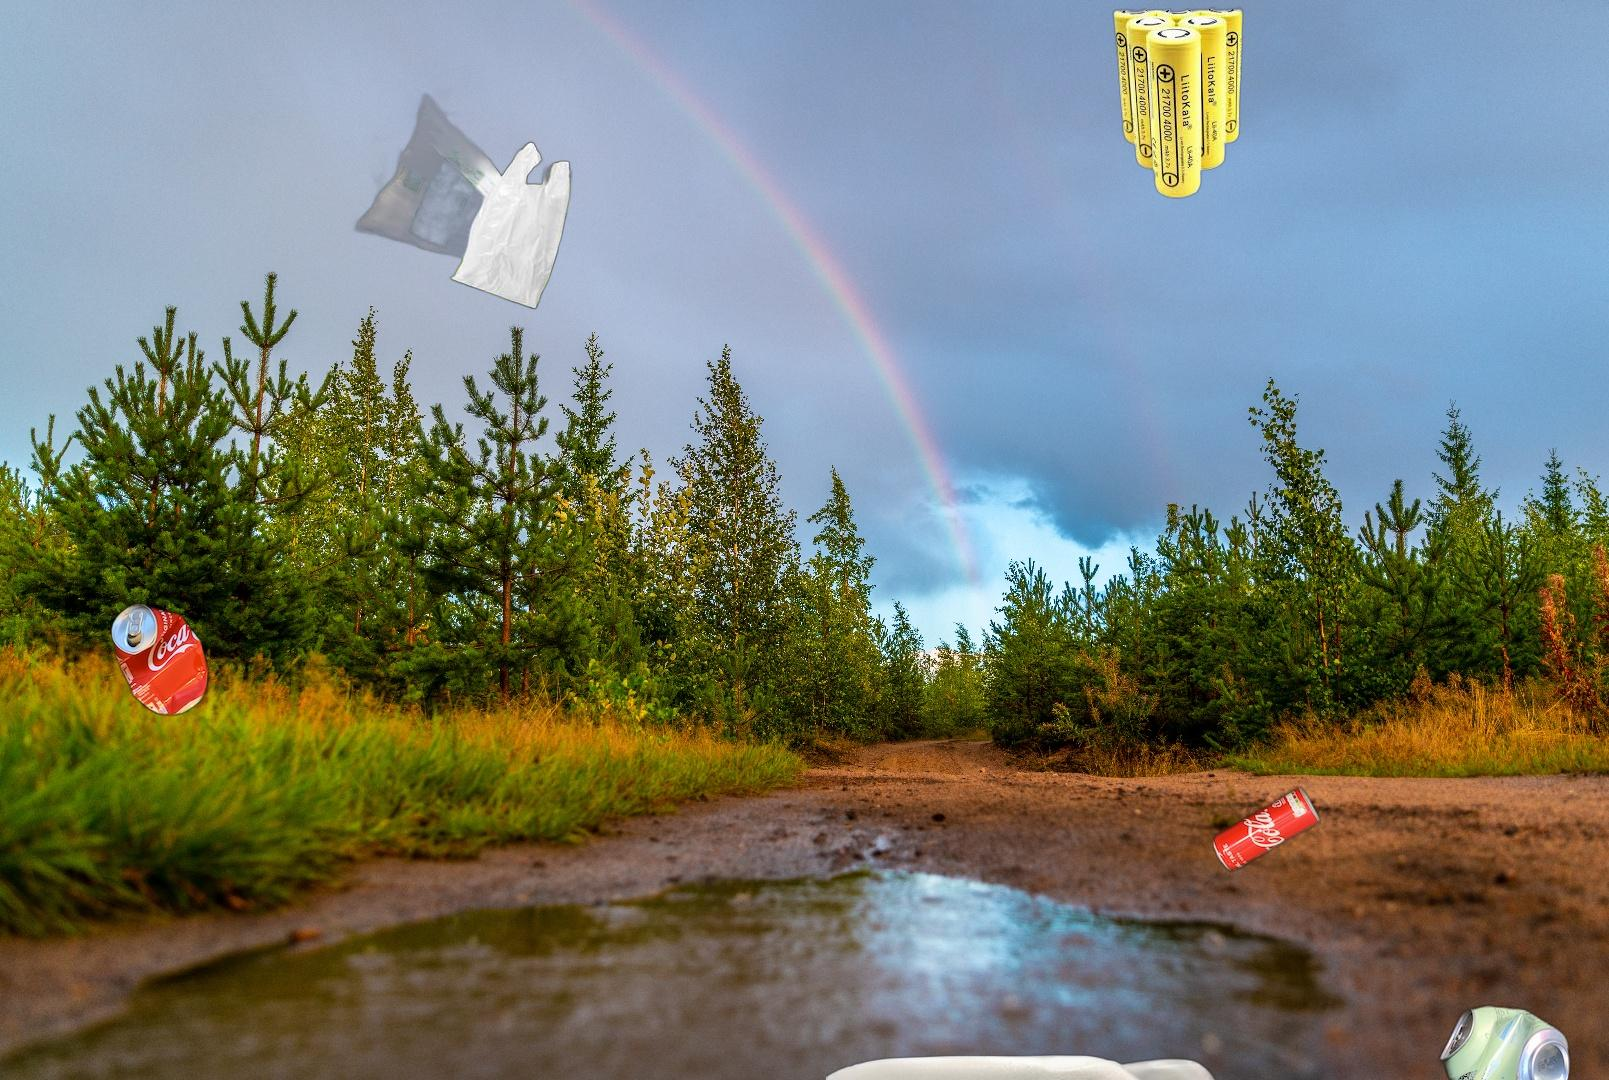battery: (1110, 5, 1246, 201)
metal-cans: (1234, 736, 1609, 1080), (106, 597, 212, 721), (1208, 780, 1325, 877)
plastic-bag: (343, 63, 575, 311)
plastic-bottles: (826, 1052, 1300, 1080)
